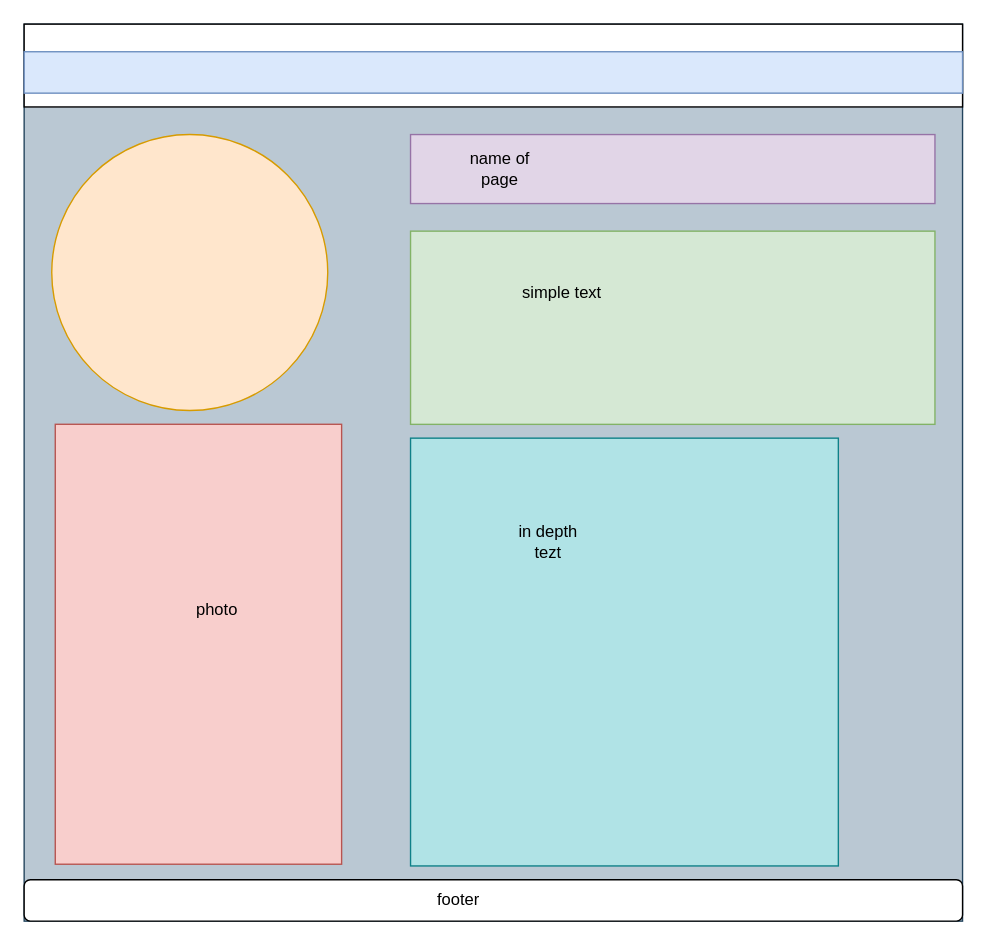
This 987x945 diagram has some shape labels left out. Here are the shapes that lost their labels. From the top down, the box of each, then its label:
(23, 50, 963, 93): button 1 button 2 button 3 button 4
(50, 133, 328, 411): main photo
